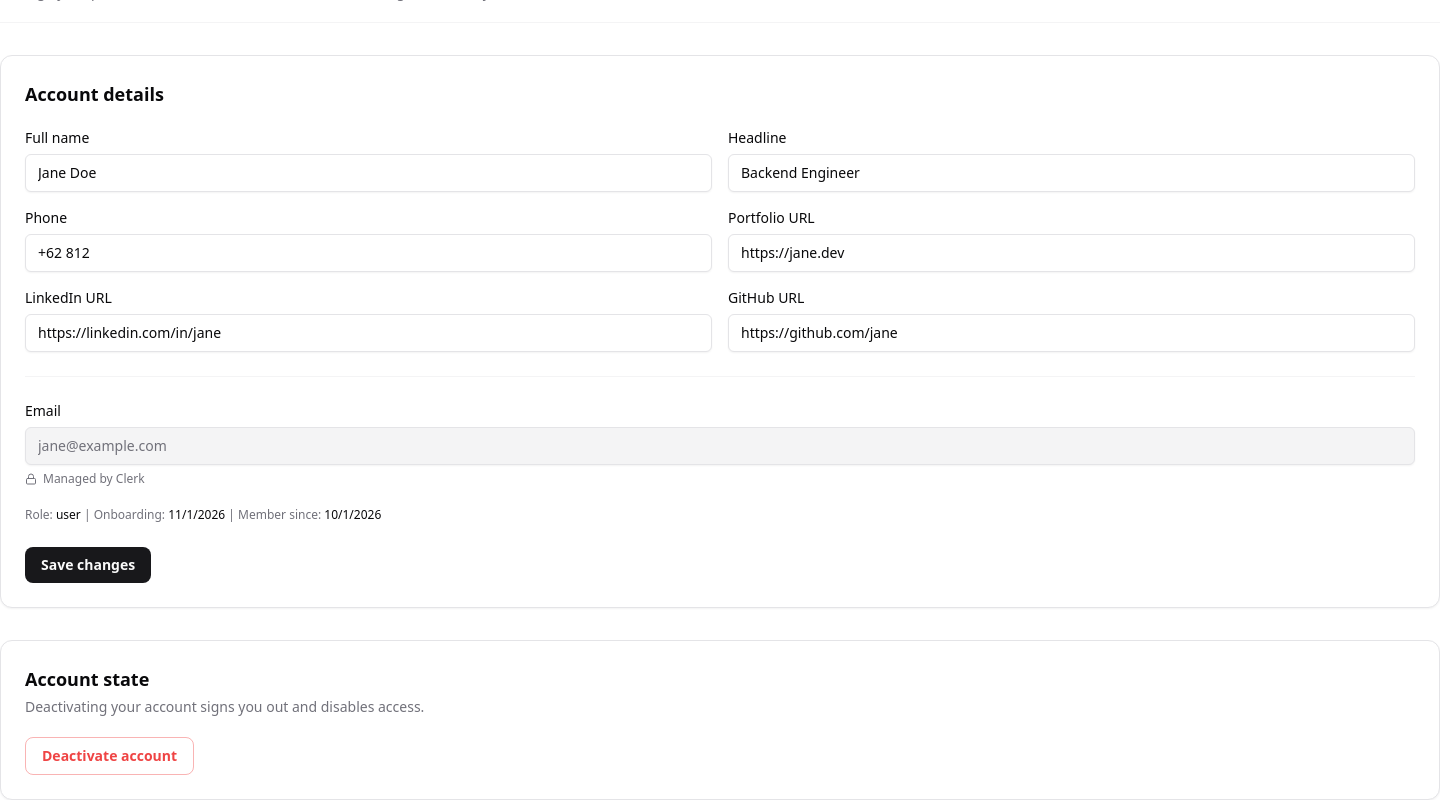
AccountForm › shows an error when deactivation rejects instead of leaving an unhandled rejection
The width and height of the screenshot is (1440, 800).
(page scrolled)
What coordinates should you click on to do the following:
click the button "Deactivate account"
I would click on:
 (110, 756)
Its box is [25, 737, 194, 775].
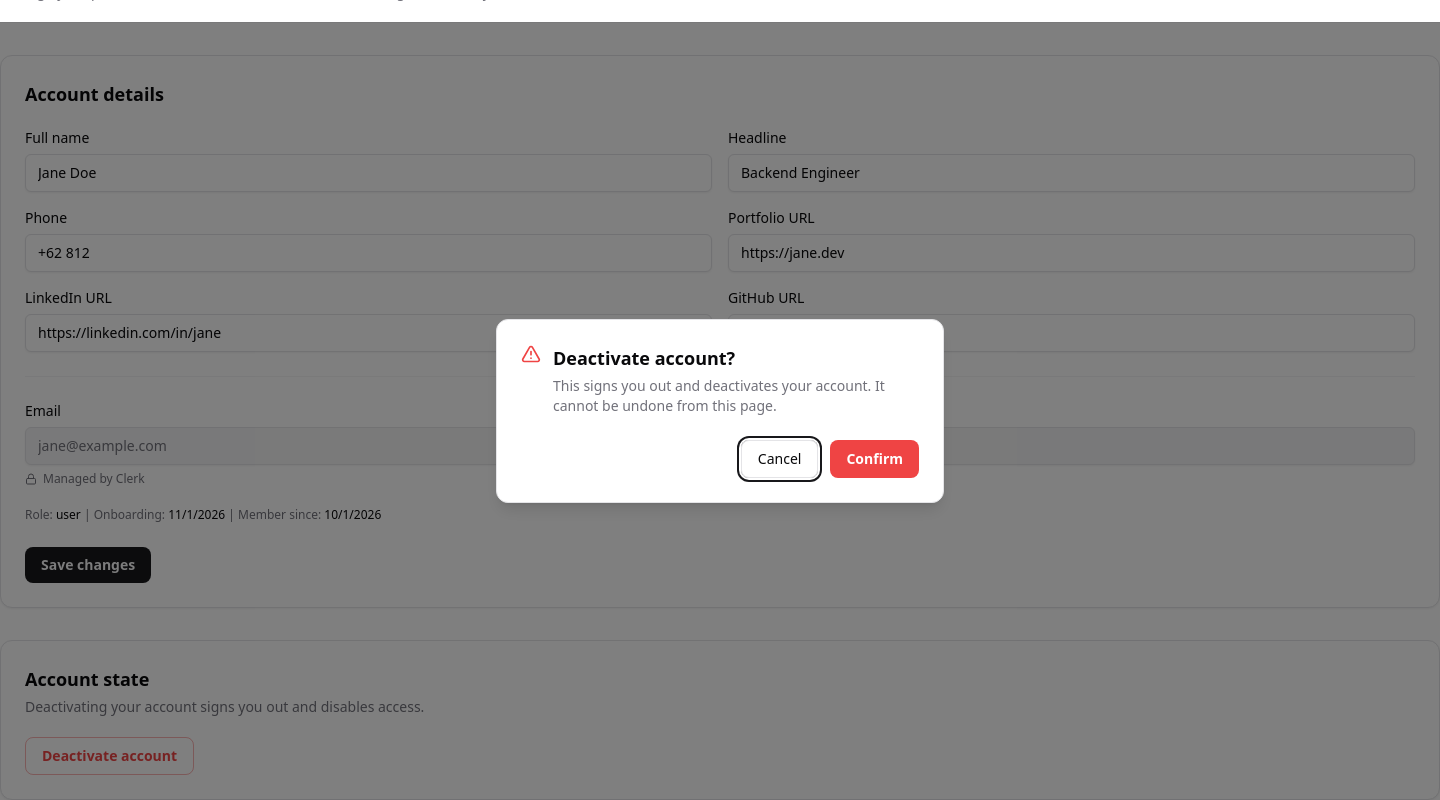
What coordinates should you click on to do the following:
click the button "Confirm"
I would click on:
 (875, 459)
Its box is [830, 440, 919, 478].
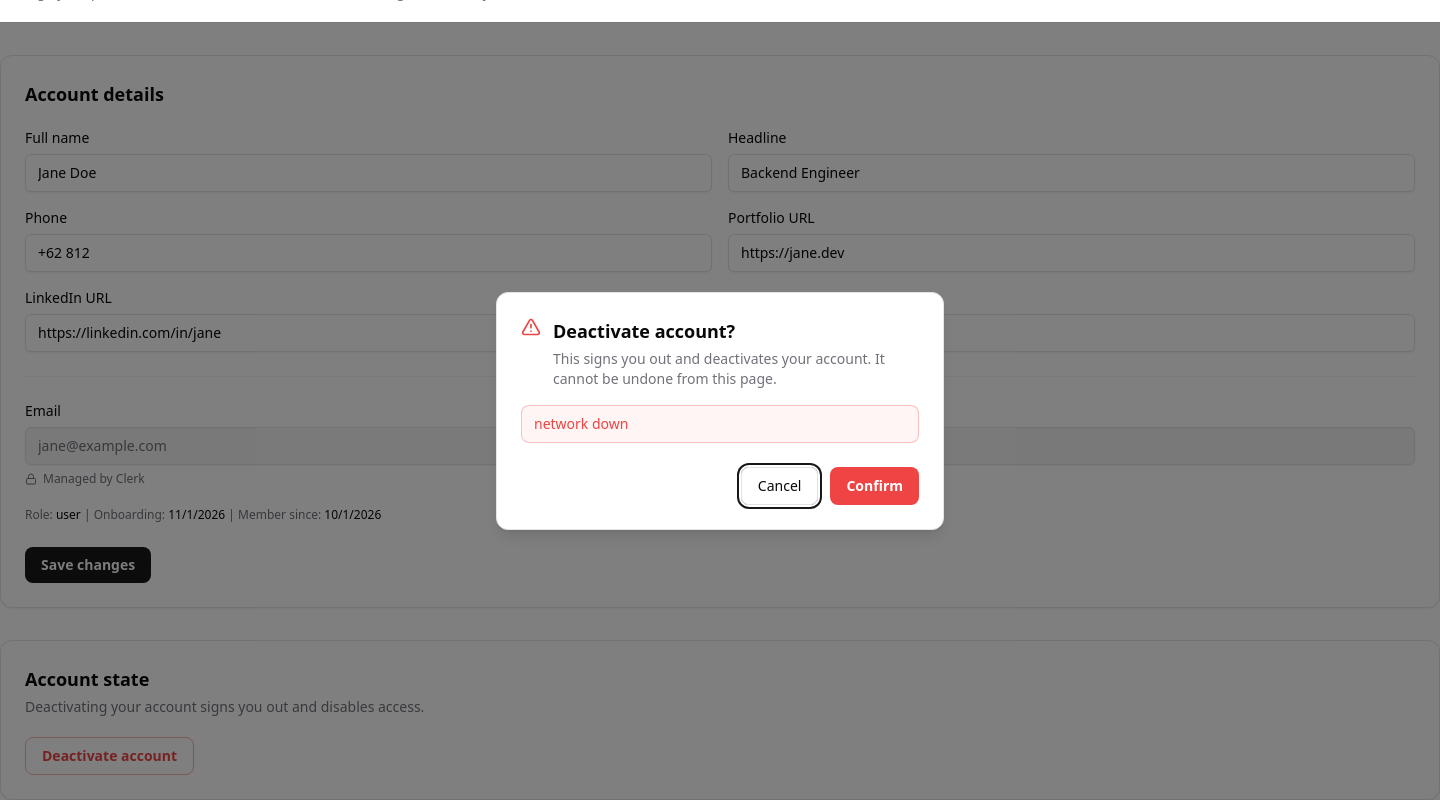
Check: the message reads "network down", box [534, 414, 628, 433]
